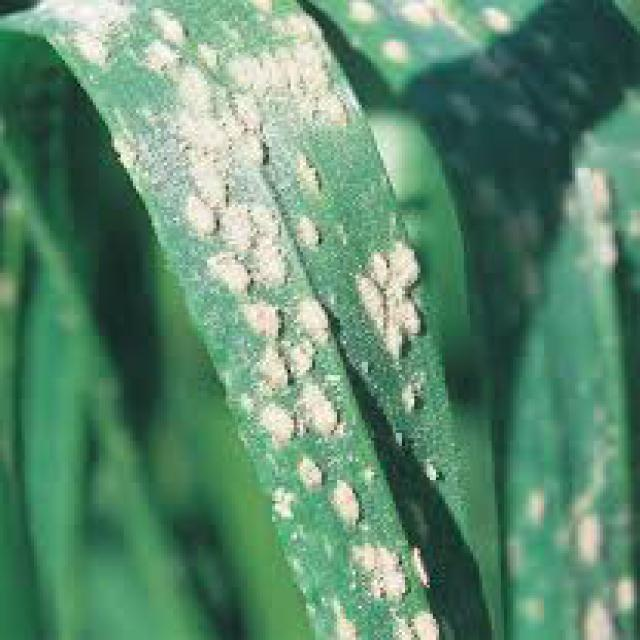Powdery_Mildew: (71, 0, 467, 640)
